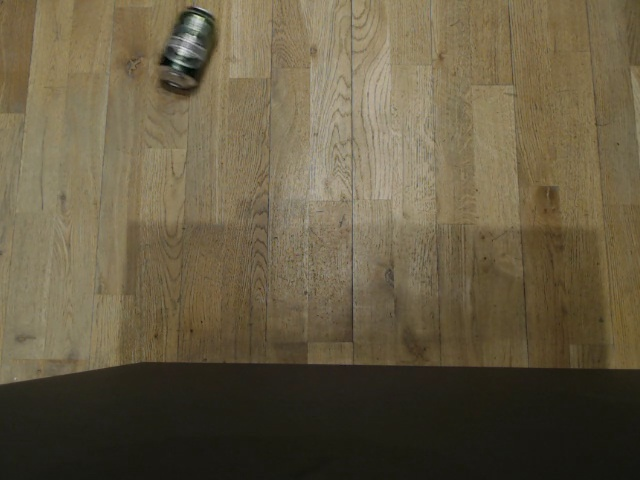beer: (156, 9, 217, 91)
